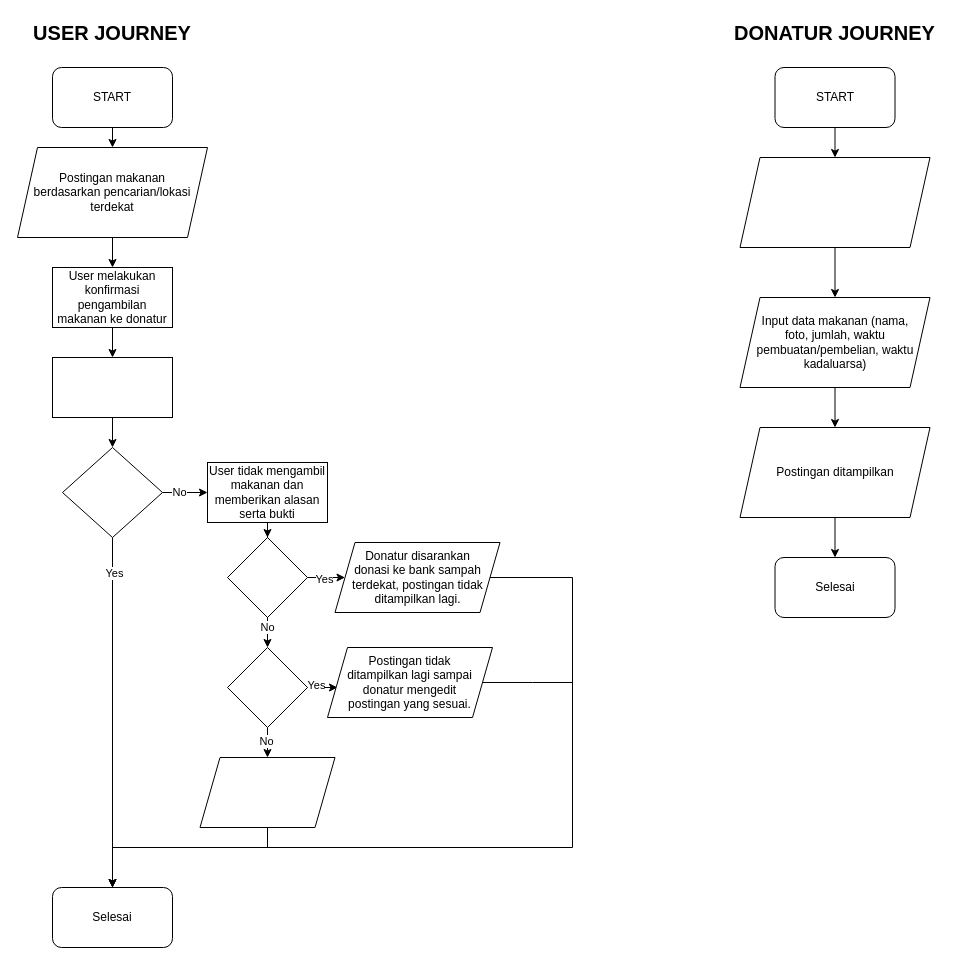
The diagram is 965 pixels wide and 965 high, and some of its shapes have lost their labels. The centre of each missing label's shape, as x and y in pixels:
"Makanan sesuai/Makanan layak?" belongs at point (112, 492).
"Makanan tidak layak" belongs at point (267, 577).
"Makanan tidak sesuai" belongs at point (267, 687).
"Mengisi alamat beserta koordinat berdasarkan google maps di akun donatur" belongs at point (834, 202).
"Transaksi batal, postingan makanan tetap tampil lagi." belongs at point (267, 792).
"User mengambil makanan di donatur" belongs at point (112, 387).
